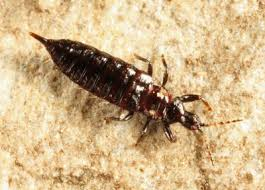Phlaeothripidae: (27, 29, 245, 164)
